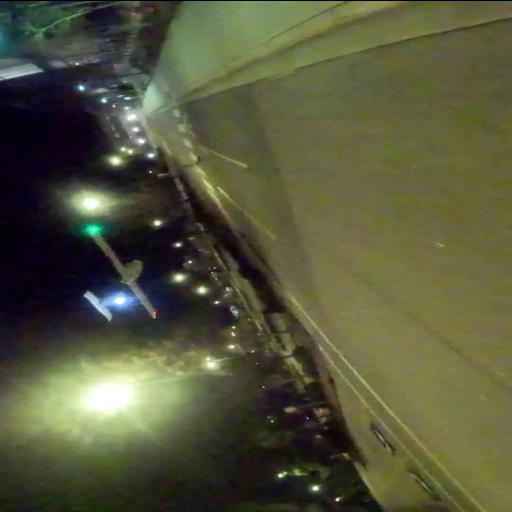uav: (78, 222, 165, 330)
